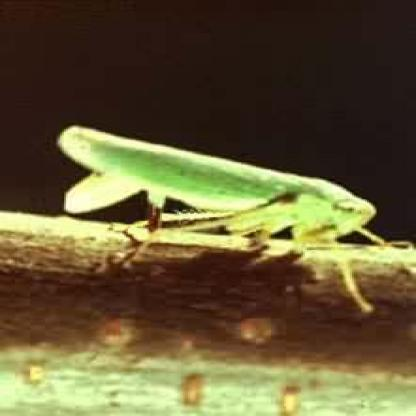Green-Leafhopper: (45, 119, 416, 325)
